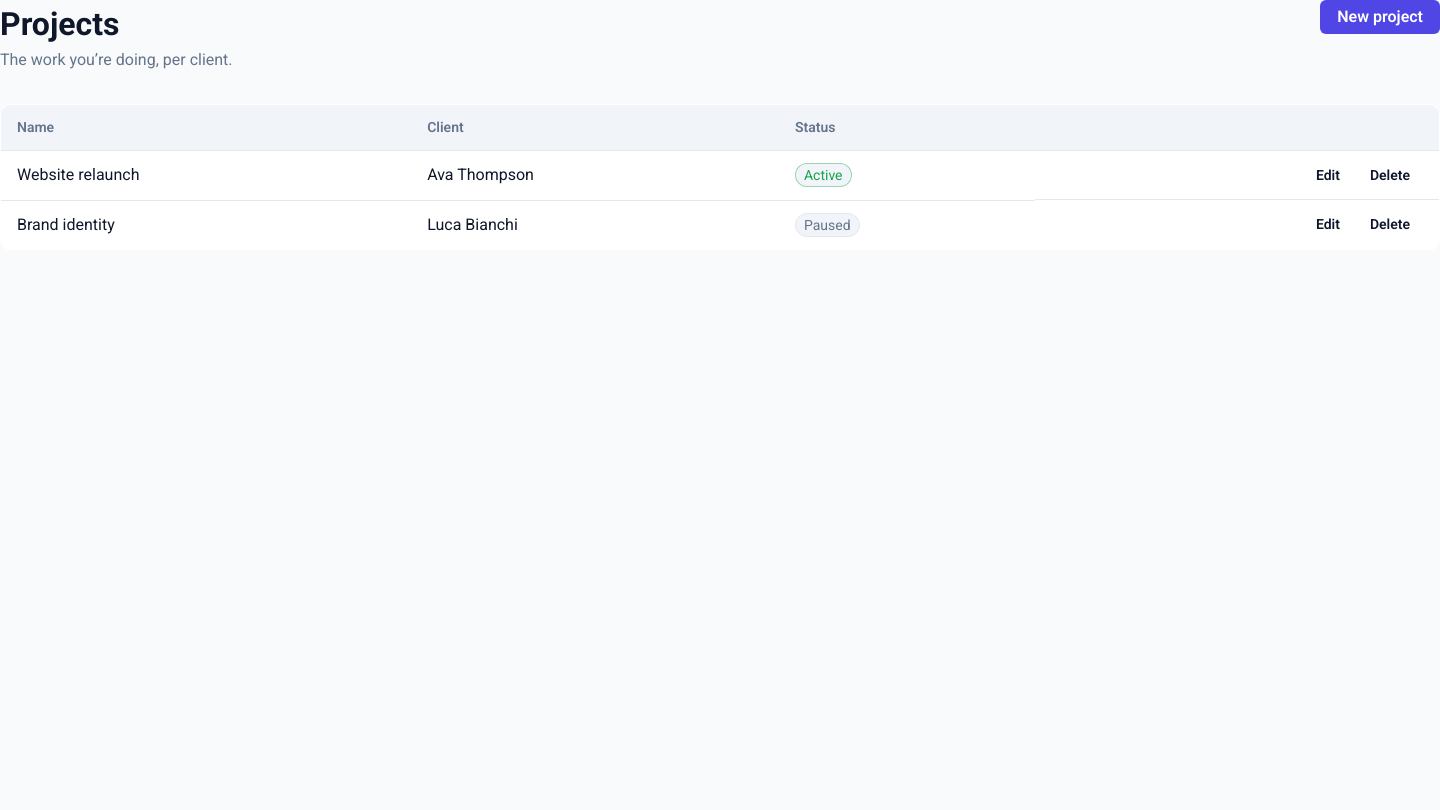
Scenario: ProjectsPage — writing › puts the row back when the delete fails
Check: the text "Brand identity" is shown, box [0,200,411,249]
What coordinates should you click on to do the following:
click the button with aria-label "Delete Brand identity"
I would click on:
 (1390, 224)
Its box is [1357,212,1423,236].
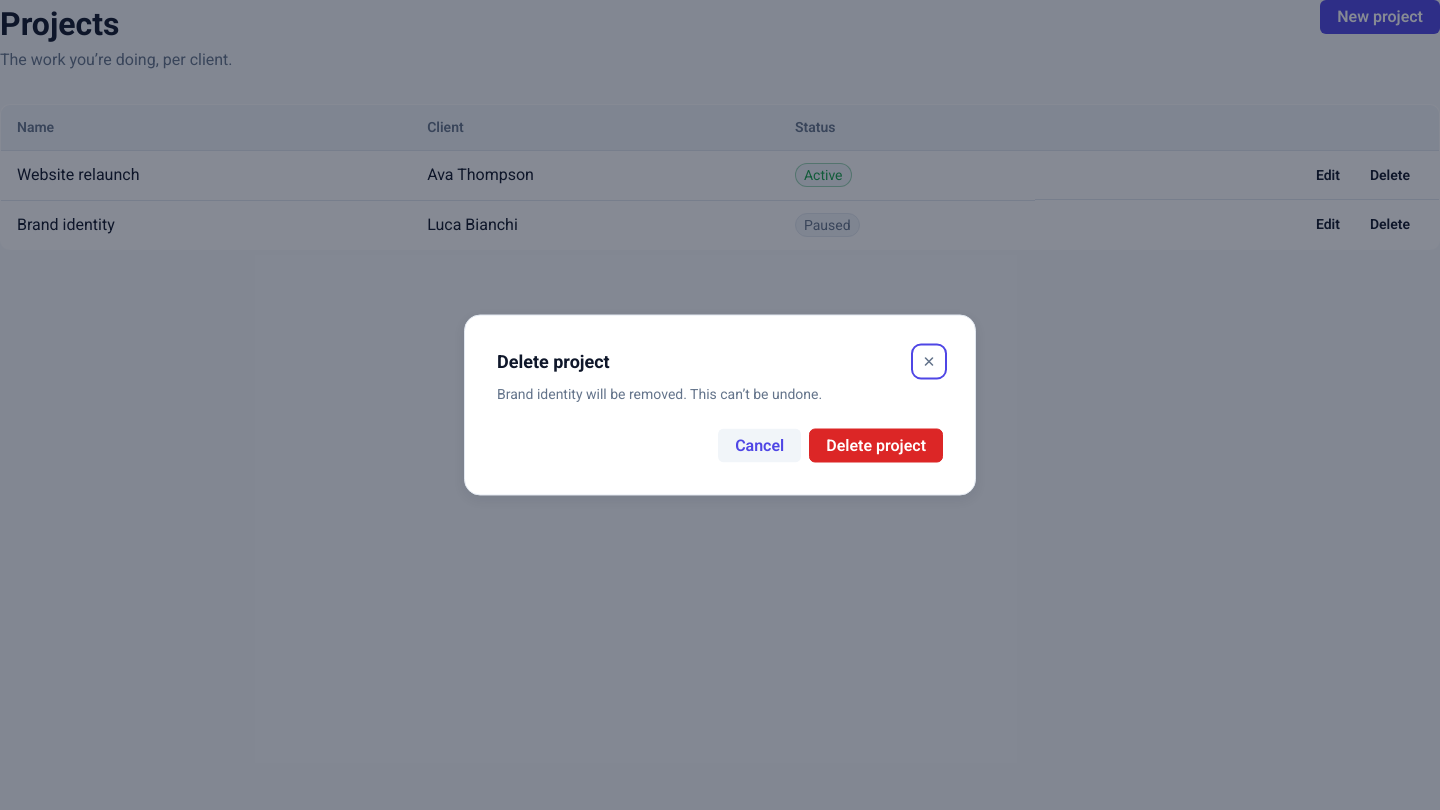
What coordinates should you click on to do the following:
click the button "Delete project"
I would click on:
 (876, 446)
Its box is [809,428,943,462].
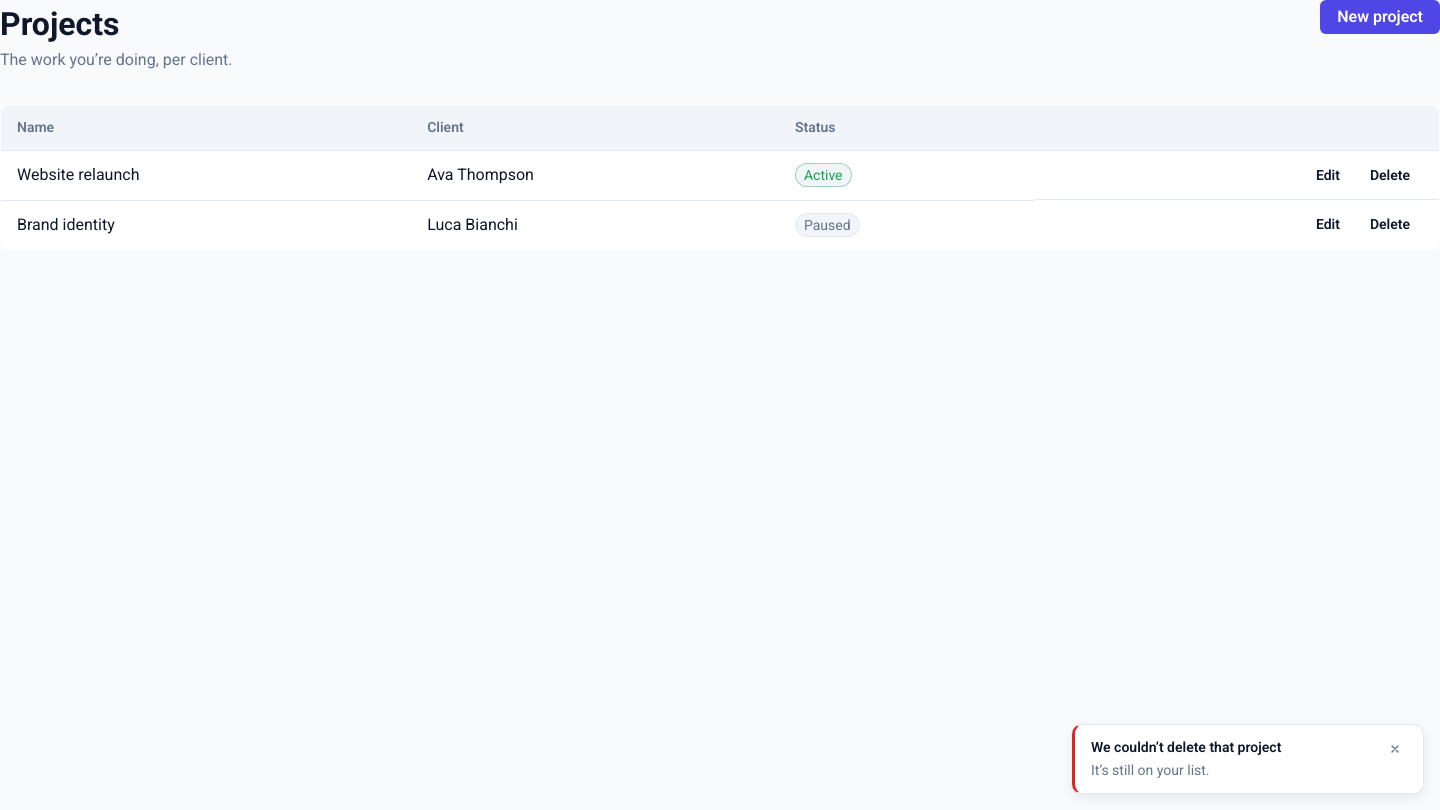
Check: the text "Brand identity" is shown, box [0,200,411,249]
Check: the text "We couldn’t delete that project" is shown, box [1091,737,1281,758]
